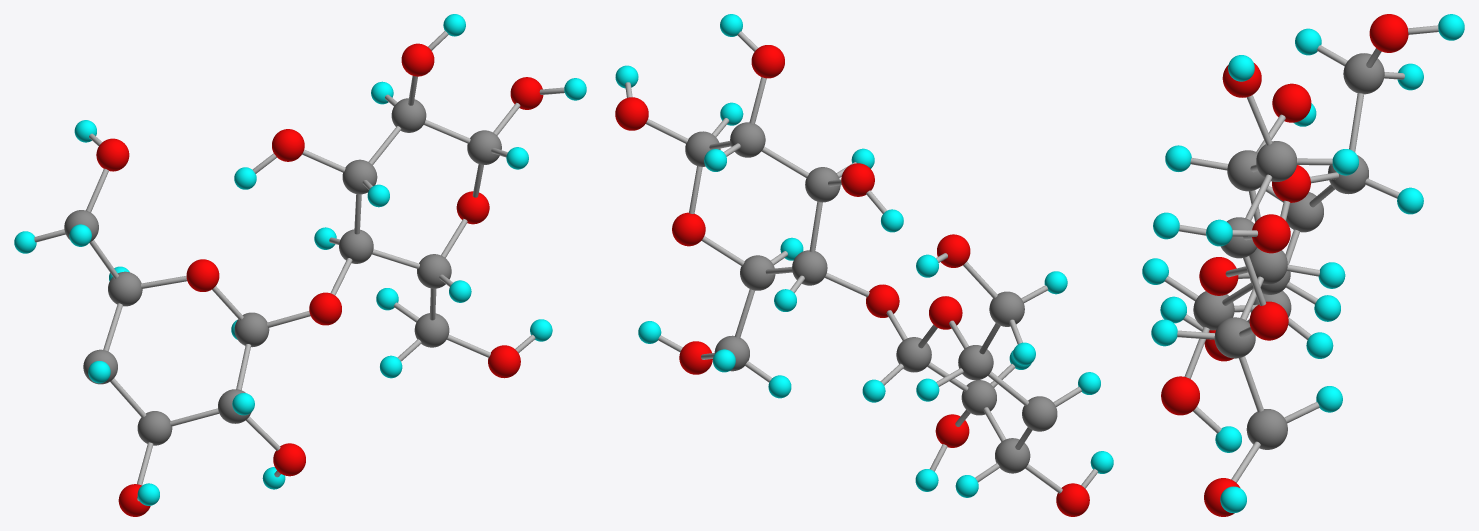
Rendered from β-cellobiose.glb.
3 views of the same model, side by side, from view 1: azimuth 30°, elevation 25°; view 2: azimuth 150°, elevation 25°; view 3: azimuth 270°, elevation 25° (orthographic). The views are drawn at different scales.
Visible parts, largest first — view 1: CMAtom_10, CMAtom_12, CMAtom_8, CMAtom_3, CMAtom_26, CMAtom_28, CMAtom_25, CMAtom_29, CMAtom_27, CMAtom_24, CMAtom_41, CMAtom_39 (+7 smaller); view 2: CMAtom_11, CMAtom_30, CMAtom_28, CMAtom_26, CMAtom_9, CMAtom_8, CMAtom_12, CMAtom_29, CMAtom_10, CMAtom_27, CMAtom_2, CMAtom_24 (+10 smaller); view 3: CMAtom_3, CMAtom_26, CMAtom_30, CMAtom_29, CMAtom_20, CMAtom_42, CMAtom_6, CMAtom_40, CMAtom_2, CMAtom_39, CMAtom_9, CMAtom_27 (+29 smaller).
Boxes of the visible parts, x1,y1,x2,y2 form: CMAtom_10: (137, 411, 172, 445); CMAtom_12: (108, 271, 142, 306); CMAtom_8: (234, 312, 269, 347); CMAtom_3: (414, 313, 449, 347); CMAtom_26: (391, 98, 426, 132); CMAtom_28: (339, 229, 373, 263); CMAtom_25: (467, 130, 501, 164); CMAtom_29: (417, 254, 451, 288); CMAtom_27: (342, 159, 377, 194); CMAtom_24: (401, 43, 434, 76); CMAtom_41: (186, 259, 219, 291); CMAtom_39: (309, 292, 341, 325); CMAtom_11: (1022, 396, 1057, 431); CMAtom_30: (989, 291, 1024, 326); CMAtom_28: (792, 250, 827, 285); CMAtom_26: (730, 122, 765, 157); CMAtom_9: (961, 380, 996, 415); CMAtom_8: (896, 337, 931, 372); CMAtom_12: (958, 345, 993, 380); CMAtom_29: (740, 255, 775, 290); CMAtom_10: (995, 438, 1030, 473); CMAtom_27: (805, 167, 840, 202); CMAtom_2: (615, 97, 648, 130); CMAtom_24: (751, 45, 784, 78); CMAtom_3: (1246, 409, 1287, 449); CMAtom_26: (1256, 141, 1296, 181); CMAtom_30: (1343, 53, 1384, 94); CMAtom_29: (1214, 317, 1255, 358); CMAtom_20: (1161, 376, 1199, 415); CMAtom_42: (1369, 14, 1408, 52); CMAtom_6: (1249, 301, 1288, 340); CMAtom_40: (1272, 83, 1311, 122); CMAtom_2: (1252, 214, 1290, 253); CMAtom_39: (1199, 257, 1238, 295); CMAtom_9: (1193, 291, 1234, 330); CMAtom_27: (1227, 150, 1264, 191).
Size of the model in its own units: 10.03 by 8.31 by 4.83.
